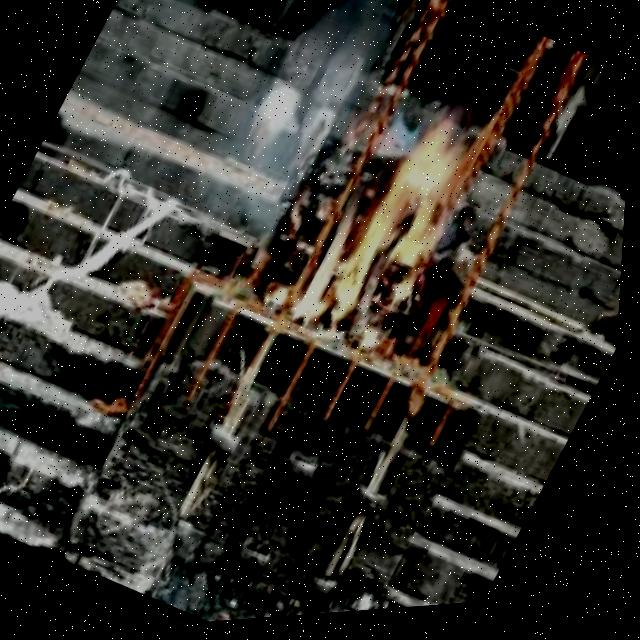Fire: (284, 92, 502, 370)
